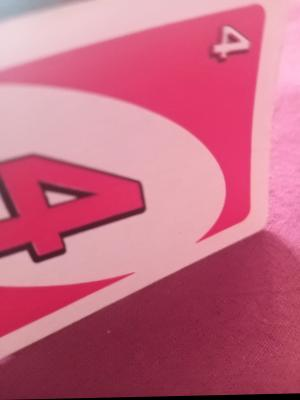num_4: (206, 13, 256, 73)
